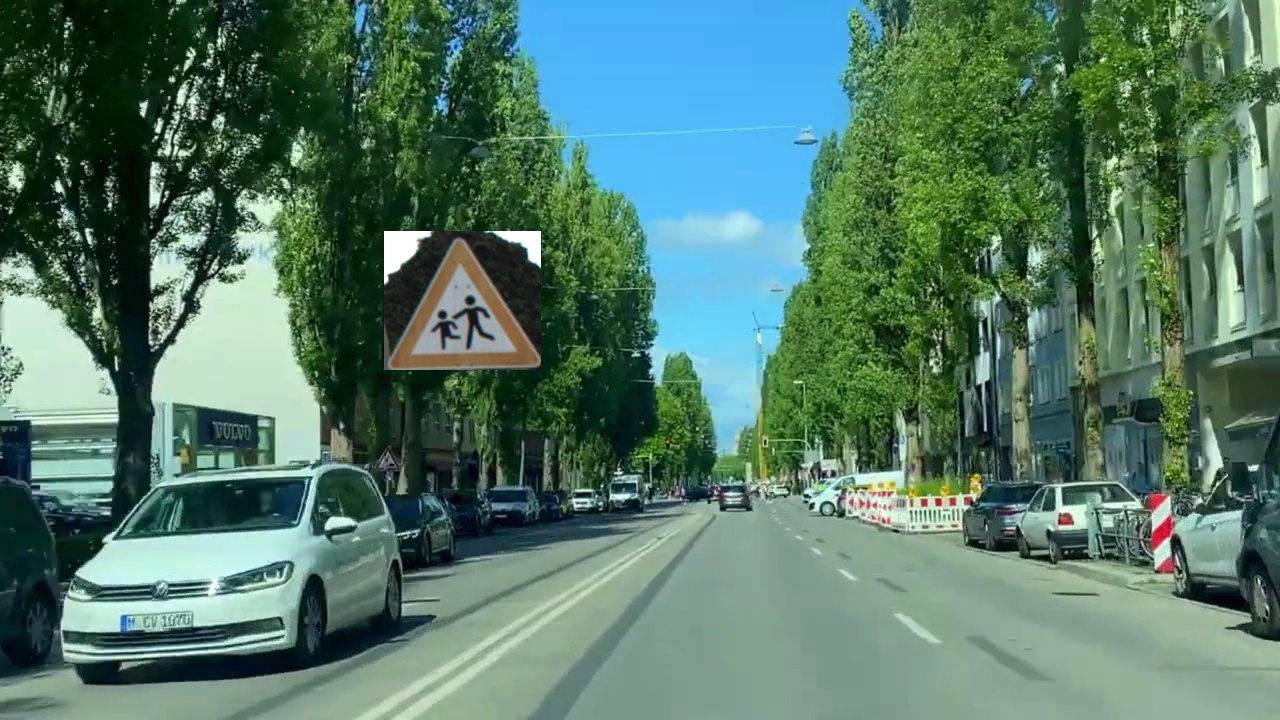Children: (384, 231, 541, 370)
